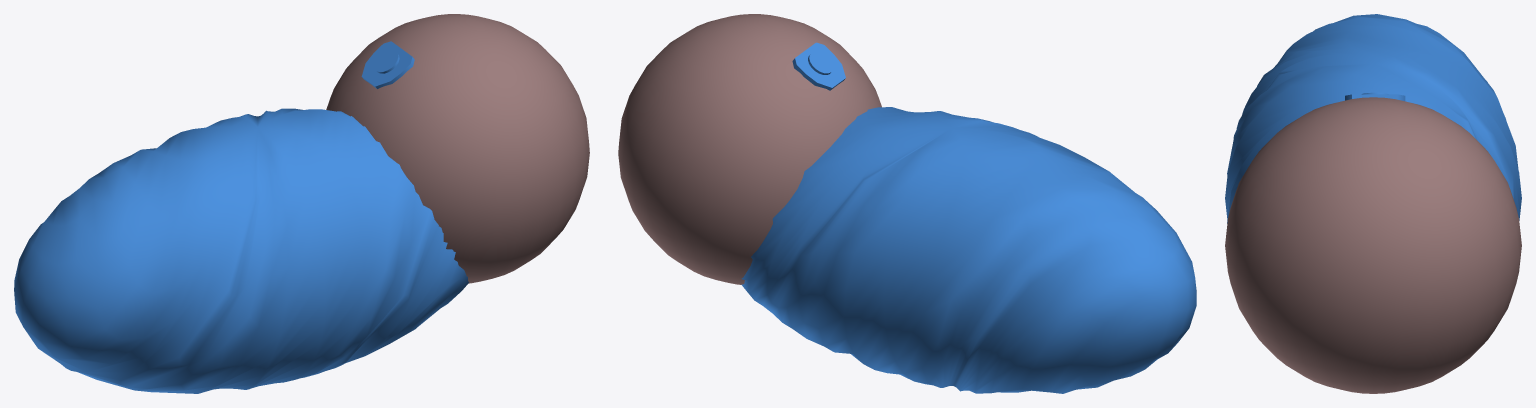
The model's file is Baby.fbx.
The picture shows the model from 3 angles, left to right: view 1: azimuth 30°, elevation 25°; view 2: azimuth 150°, elevation 25°; view 3: azimuth 270°, elevation 25°; orthographic projection. The views are drawn at different scales.
Visible parts, largest first — view 1: Sphere001, Sphere002, Box001; view 2: Sphere001, Sphere002, Box001; view 3: Sphere002, Sphere001, Box001.
Boxes of the visible parts, x1=… form: Sphere001: x1=14, y1=108, x2=468, y2=393; Sphere002: x1=326, y1=14, x2=589, y2=283; Box001: x1=361, y1=41, x2=414, y2=88; Sphere001: x1=741, y1=107, x2=1196, y2=393; Sphere002: x1=618, y1=14, x2=881, y2=284; Box001: x1=792, y1=42, x2=845, y2=90; Sphere002: x1=1225, y1=97, x2=1521, y2=393; Sphere001: x1=1225, y1=14, x2=1521, y2=223; Box001: x1=1345, y1=94, x2=1405, y2=101.
Bounding box in the file's own units: 18.46 × 9.57 × 7.87.
